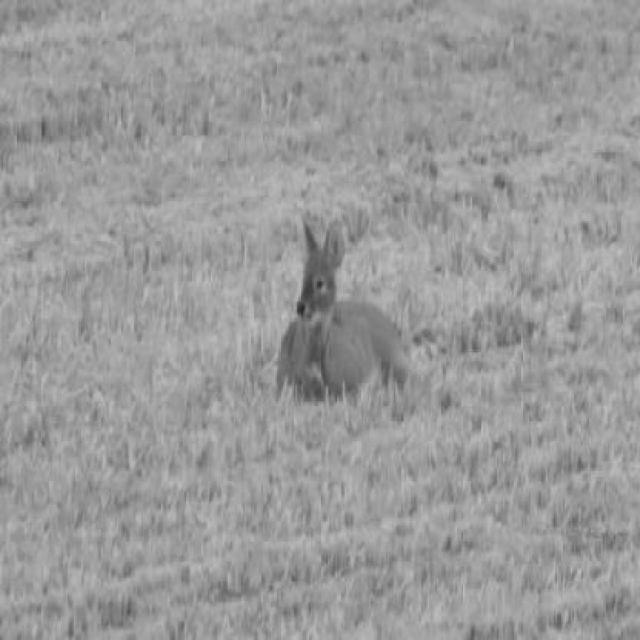Deer: (271, 212, 417, 408)
